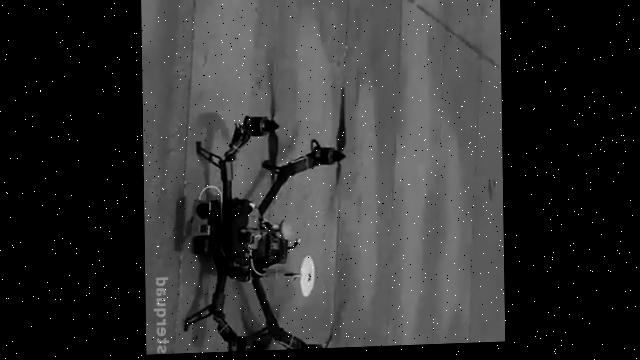drone: (176, 57, 356, 355)
